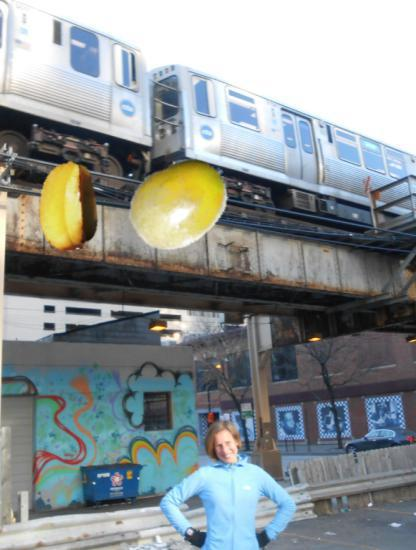Carambula: (23, 161, 112, 250)
Maracuja: (125, 149, 233, 257)
